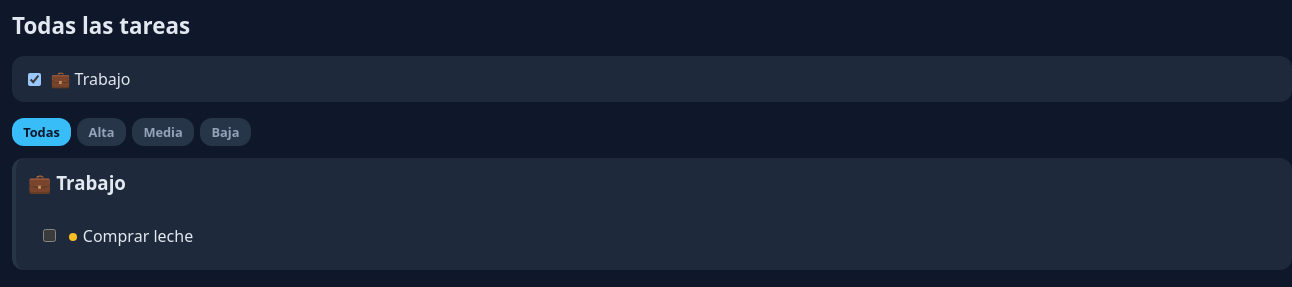
it: AllTasksPage › hides a space's tasks when it is unchecked in the filter bar
Click the checkbox labelled "💼 Trabajo" at {"x": 34, "y": 79}, box [28,72,41,86]
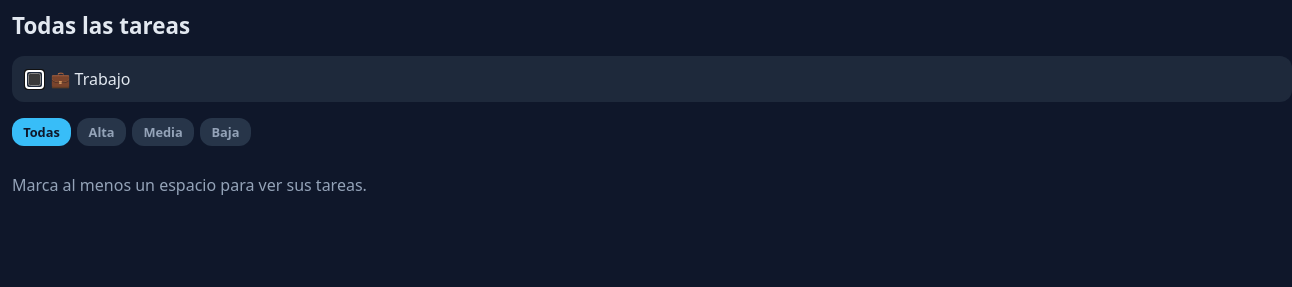
Expected: the text "Marca al menos un espacio para ver sus tareas." is shown, [12,174,367,196]
Expected: the text "Comprar leche" is gone
